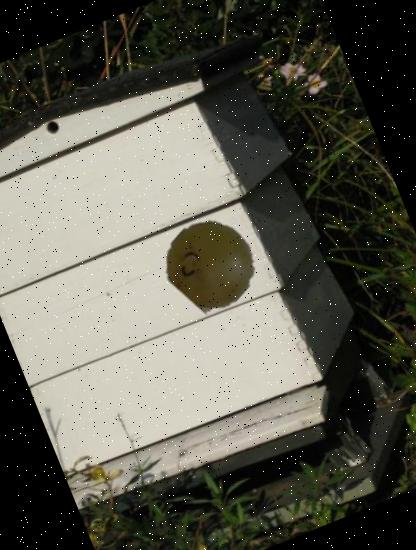Grape: (154, 205, 270, 321)
